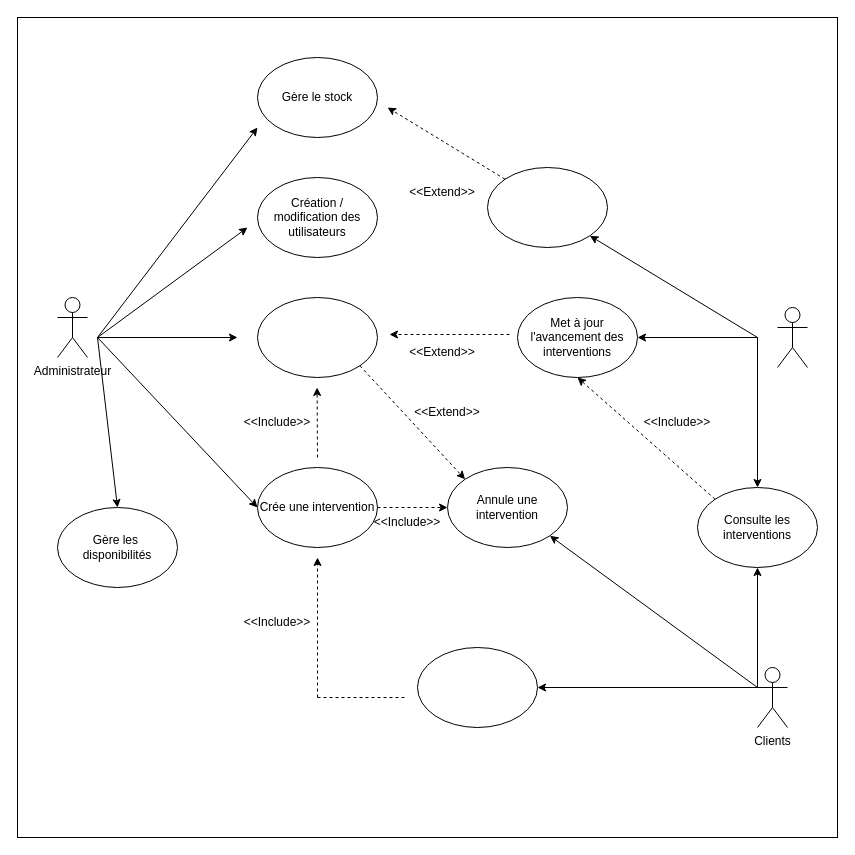
Image size: 855x855. Some labels were removed from this diagram. The centre of each missing label's shape, as x and y in pixels:
"Demande une intervention" belongs at (477,687).
"Gère une intervention" belongs at (317,337).
"Plombiers" belongs at (792,337).
"Utilise le matériel" belongs at (547,207).
